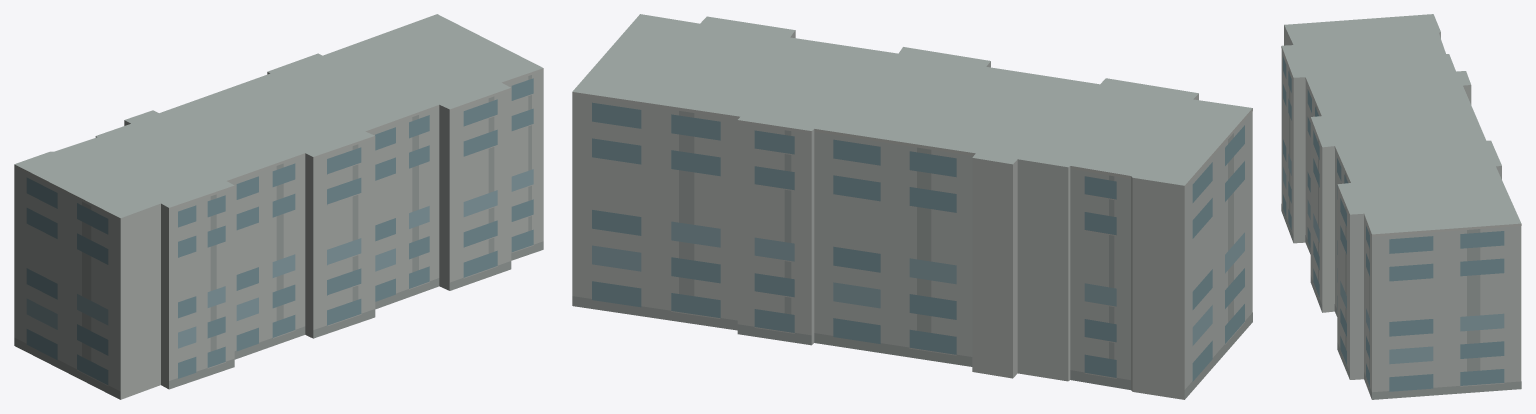
File: survey-upis-32837416.glb
3 views of the same model, side by side, from view 1: azimuth 30°, elevation 25°; view 2: azimuth 150°, elevation 25°; view 3: azimuth 270°, elevation 25° (orthographic). The views are drawn at different scales.
Visible parts, largest first — view 1: survey-upis-32837416.tmp; view 2: survey-upis-32837416.tmp; view 3: survey-upis-32837416.tmp.
Part boxes in pixels (x1,y1,x2,y2): survey-upis-32837416.tmp: [14, 14, 543, 399]; survey-upis-32837416.tmp: [572, 14, 1252, 399]; survey-upis-32837416.tmp: [1281, 14, 1521, 399].
Bounding box in the file's own units: 47.13 × 16.5 × 21.69.
